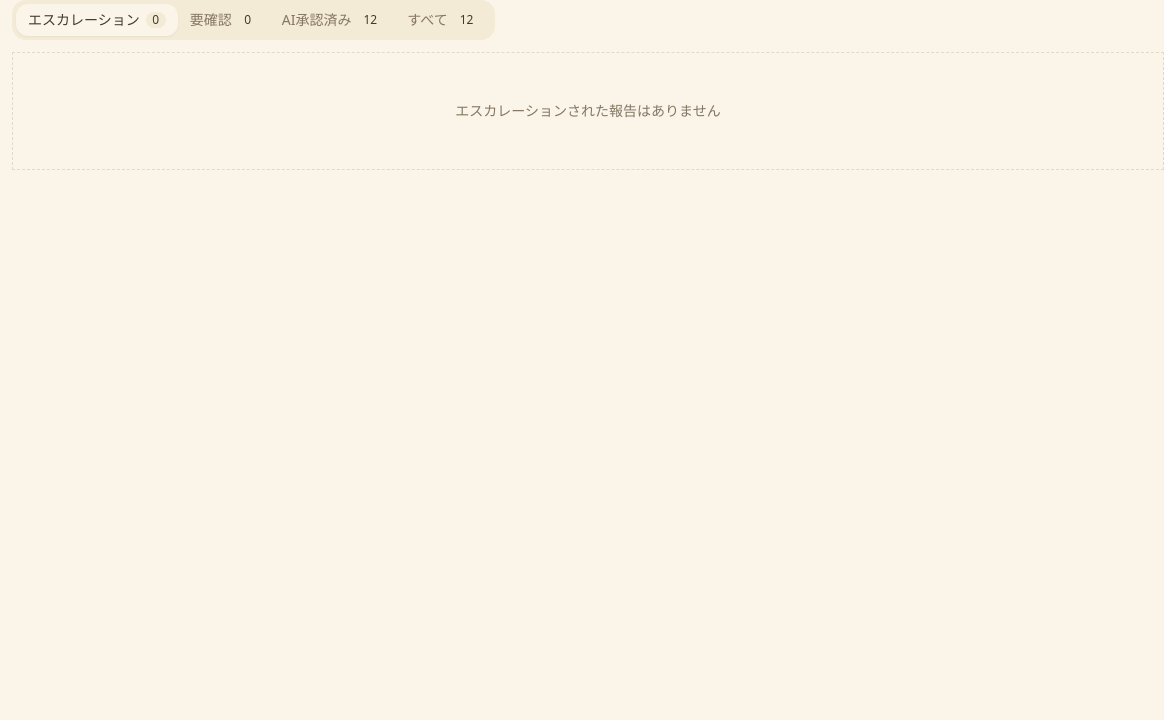
Test: ReportModerationQueue › offers a random ten-item audit action in the approved queue
The image size is (1164, 720).
Click the tab named "AI承認済み12件".
click(332, 20)  # box [270,4,395,36]
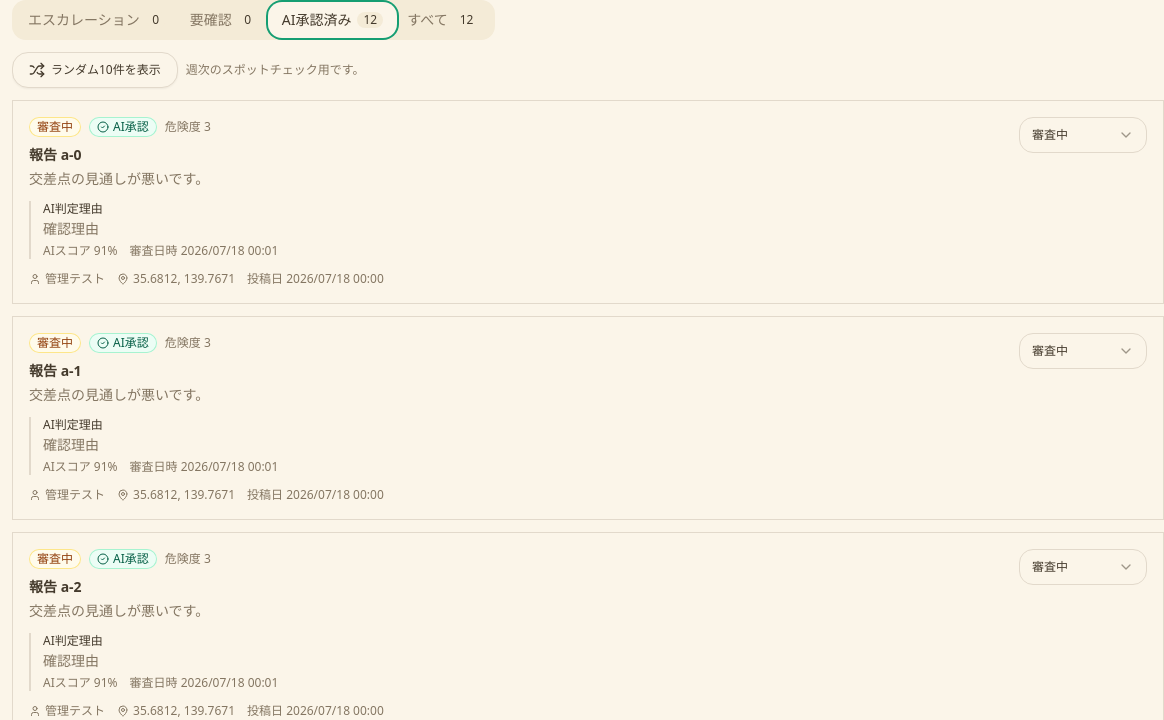
Result: the button "ランダム10件を表示" is shown
Click the button "ランダム10件を表示".
click(95, 70)  # box [12,52,178,88]
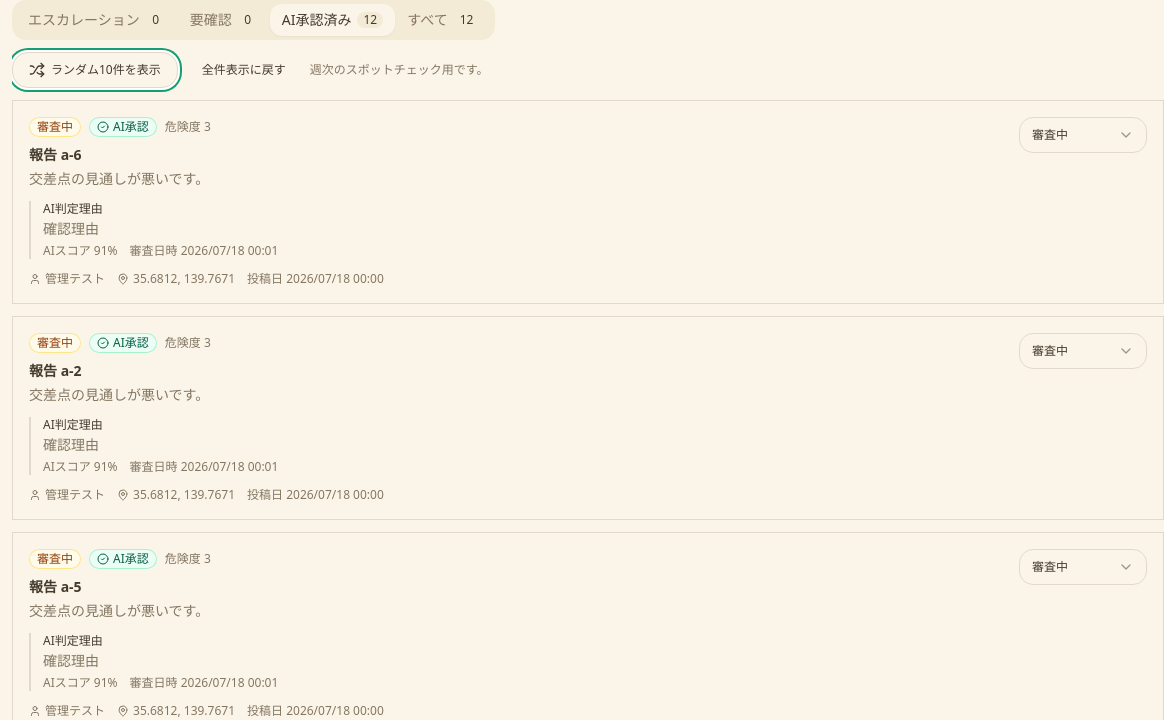
Result: the number of elements with test id "admin-report-card" is 10
